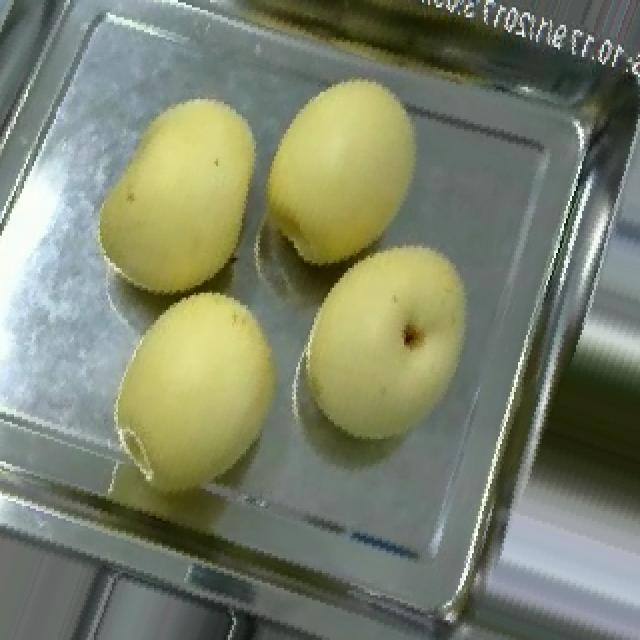Fruit: (72, 260, 314, 516), (276, 211, 500, 474), (70, 69, 288, 320), (228, 47, 446, 293)
